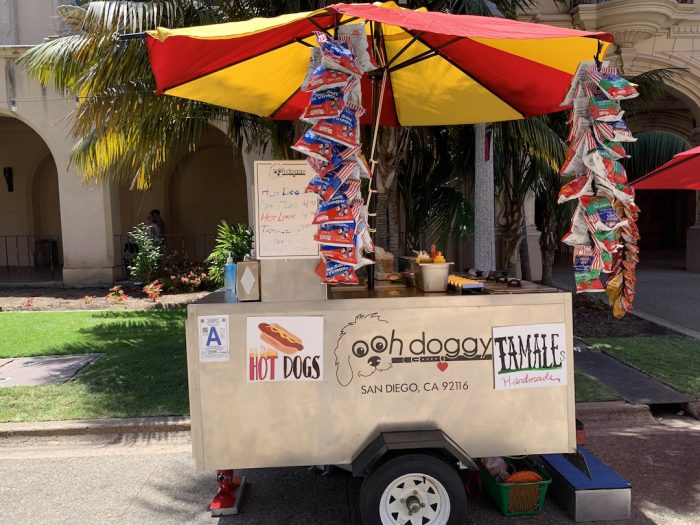cart: (196, 160, 579, 525)
